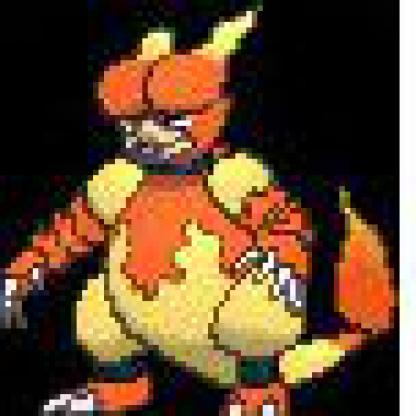Magmar: (1, 1, 412, 412)
